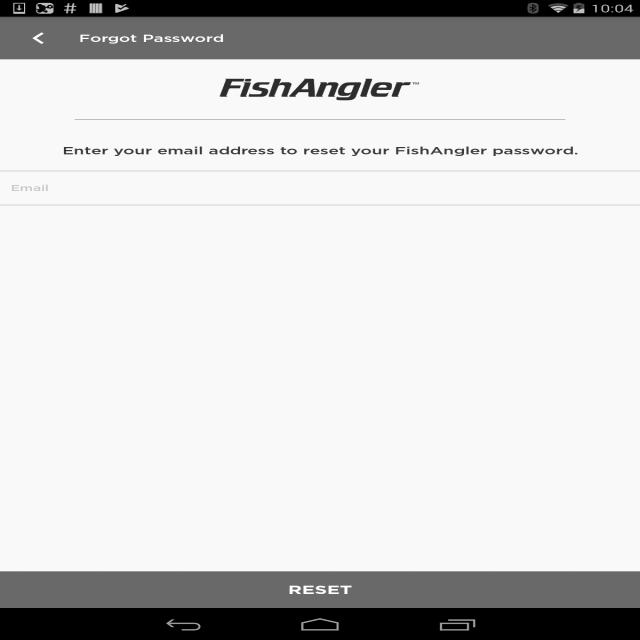Button: (0, 571, 640, 608)
EditText: (0, 171, 640, 205)
ImageButton: (9, 17, 68, 59)
ImageView: (212, 73, 427, 106)
TextView: (79, 31, 631, 45), (62, 144, 578, 158)
